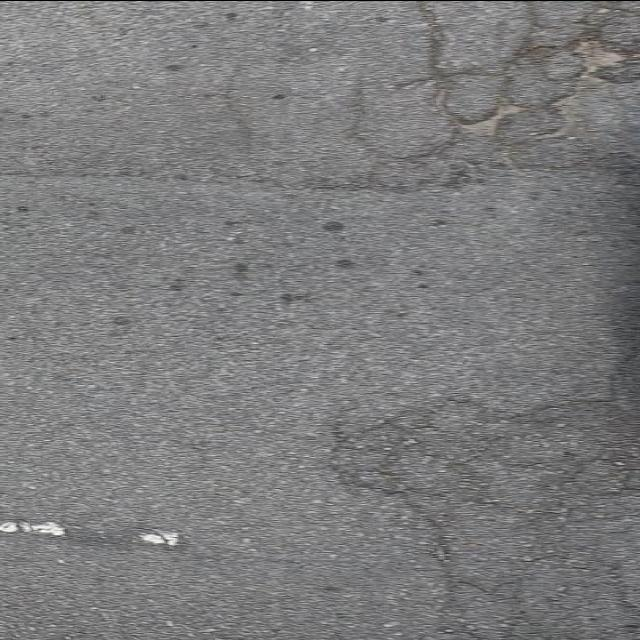cracks: (172, 0, 639, 196), (322, 362, 640, 638)
